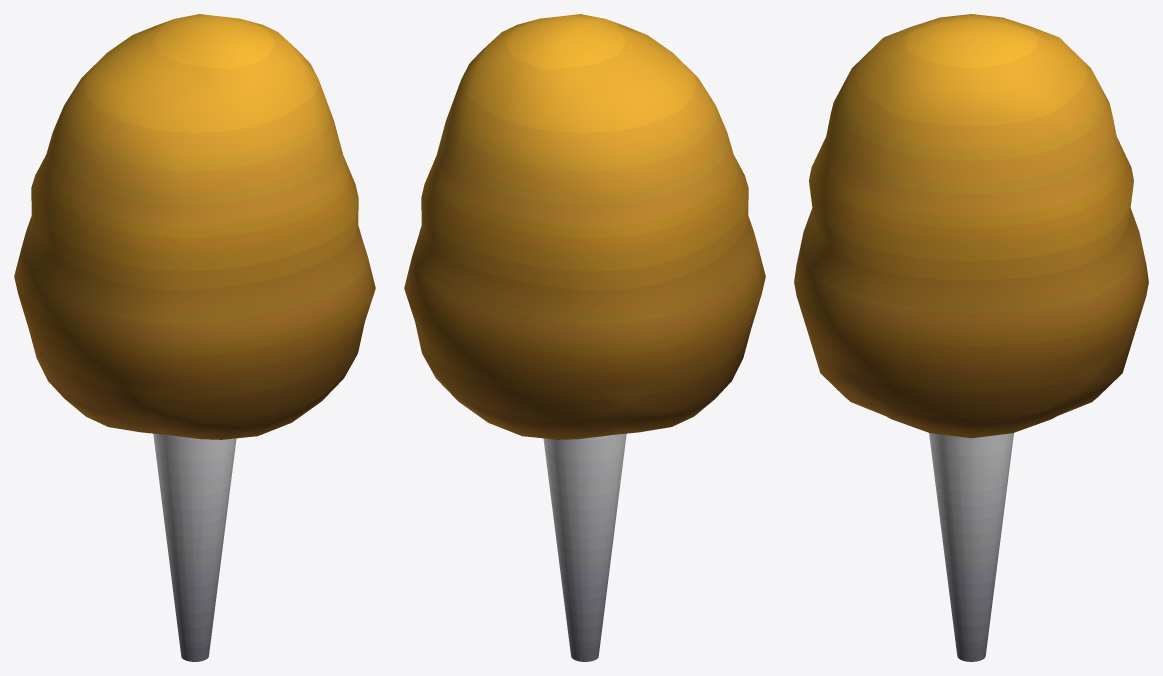
File: SM_Fairyfloss_Mango.fbx
3 renders of one model, left to right at view 1: azimuth 30°, elevation 25°; view 2: azimuth 150°, elevation 25°; view 3: azimuth 270°, elevation 25°, orthographic. The views are drawn at different scales.
Visible parts, largest first — view 1: SM_fairyfloss; view 2: SM_fairyfloss; view 3: SM_fairyfloss.
Part boxes in pixels (<box>): SM_fairyfloss: <box>14,14,375,661</box>; SM_fairyfloss: <box>404,14,765,661</box>; SM_fairyfloss: <box>794,14,1148,661</box>.
Size of the model in its own units: 3.04 by 6.05 by 3.04.
